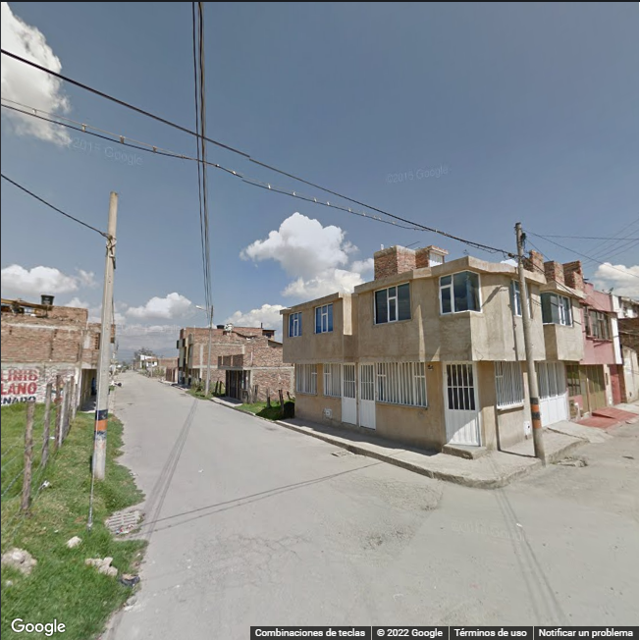D20: (190, 531, 299, 584)
D40: (353, 523, 417, 559)
